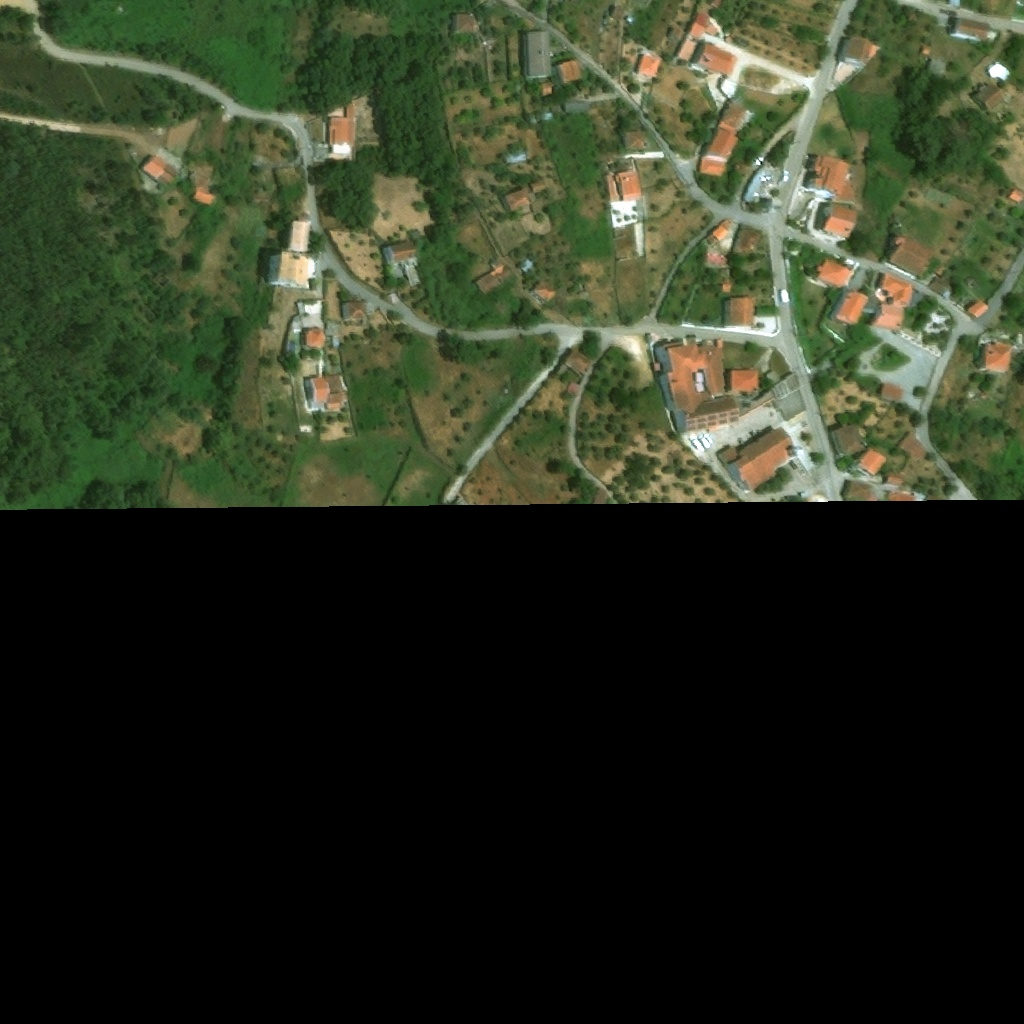0 no-damage: (652, 339, 738, 433), (715, 426, 792, 492), (696, 102, 748, 177), (735, 372, 807, 423), (265, 220, 315, 290), (802, 154, 855, 203), (869, 274, 912, 332), (884, 233, 935, 279), (383, 241, 421, 287), (689, 42, 737, 78), (740, 166, 781, 207), (815, 203, 858, 242), (304, 373, 345, 411), (474, 259, 514, 296), (521, 31, 551, 79), (829, 290, 868, 326), (327, 106, 354, 157), (601, 170, 642, 203), (139, 155, 177, 188), (815, 257, 854, 289), (836, 36, 873, 67), (719, 296, 753, 329), (830, 423, 864, 456), (978, 343, 1013, 373), (850, 449, 887, 477), (971, 82, 1006, 111), (894, 433, 926, 464), (190, 173, 216, 209), (725, 230, 760, 256), (948, 20, 990, 41), (725, 368, 757, 394), (563, 350, 592, 378), (633, 55, 660, 84), (500, 188, 530, 214), (706, 220, 733, 245), (673, 38, 698, 65), (530, 281, 557, 304), (927, 278, 954, 301), (556, 60, 581, 84), (964, 299, 990, 319), (984, 63, 1010, 82), (718, 78, 740, 100), (343, 302, 367, 322), (452, 15, 475, 34), (561, 100, 588, 115), (877, 385, 900, 402), (303, 330, 323, 349), (625, 132, 647, 149), (608, 7, 630, 24), (840, 480, 871, 492), (926, 59, 947, 76), (880, 473, 903, 488), (665, 26, 685, 42), (505, 152, 526, 165), (301, 300, 320, 314), (1007, 189, 1023, 204), (529, 180, 547, 193), (567, 382, 581, 397), (539, 83, 553, 97), (326, 323, 340, 336), (919, 46, 931, 55), (720, 284, 731, 293)
4 un-classified: (708, 0, 721, 9), (948, 0, 960, 9), (258, 166, 269, 175)
